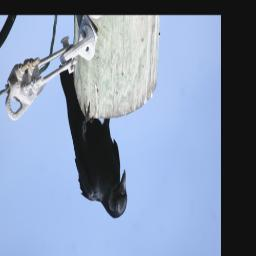Crow: (59, 62, 128, 219)
